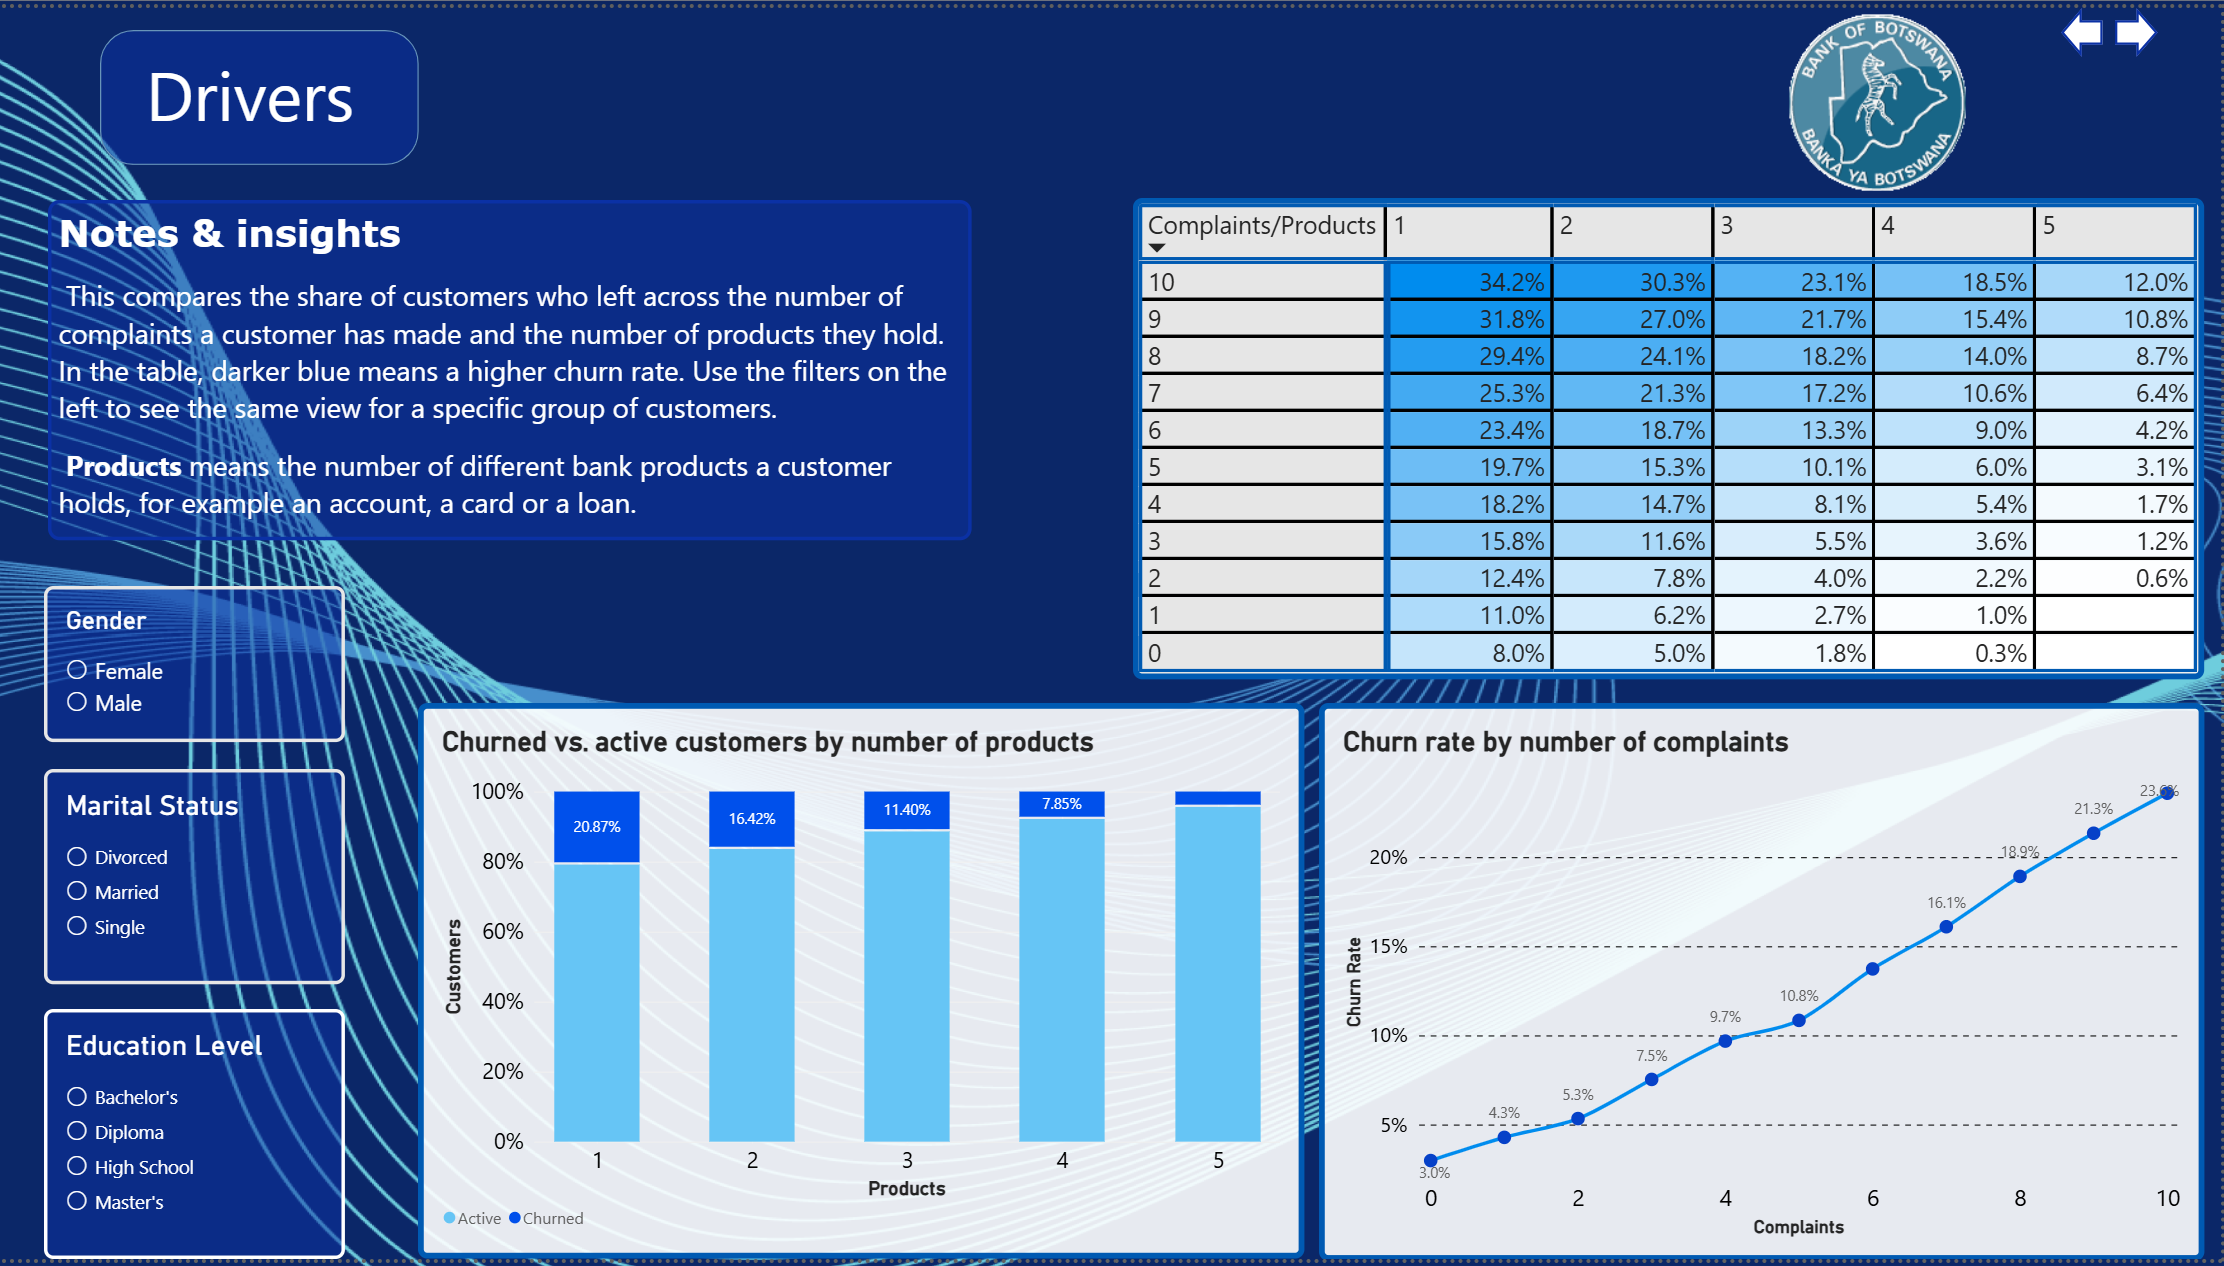

The dashboard page shown, as its layout file describes it:
{"tool":"powerbi","page":{"name":"Drivers","canvas":[1920,1080],"ordinal":3},"visuals":[{"type":"shape","box":[88,19.1,275.4,116.7],"z":0},{"type":"pivotTable","fields":{"Columns":["Bank Info.NumOfProducts"],"Rows":["Bank Info.NumComplaints"],"Values":["All Measures.Churn Rate"]},"box":[979.1,164.5,925.6,415],"z":1000},{"type":"textbox","box":[128.1,34.4,187.4,86.1],"z":2000},{"type":"lineChart","title":"Churn rate by number of complaints","fields":{"Category":["Bank Info.NumComplaints"],"Y":["All Measures.Churn Rate"]},"box":[1139.8,600.5,764.9,481.9],"z":3000},{"type":"hundredPercentStackedColumnChart","title":"Churned vs. active customers by number of products","fields":{"Category":["Bank Info.NumOfProducts"],"Series":["Bank Info.Churn Flag"],"Y":["CountNonNull(Bank Info.Churn Flag)"]},"box":[363.3,600.5,764.9,480],"z":4000},{"type":"listSlicer","fields":{"Values":["Customer Info.Gender"]},"box":[40,500,260,134],"z":5000},{"type":"listSlicer","fields":{"Values":["Customer Info.Marital Status"]},"box":[40,656,260,186],"z":6000},{"type":"listSlicer","fields":{"Values":["Customer Info.Education Level"]},"box":[40.2,863.9,260.1,216.1],"z":7000},{"type":"textbox","box":[44,166,798,294],"z":8000},{"type":"image","box":[1521.7,0,202.7,164.5],"z":9000},{"type":"shape","box":[1828.8,0,37,42.3],"z":10000},{"type":"shape","box":[1782,0,36,42.3],"z":11000}]}

Visuals, with their boxes in screenshot pixels (x1, y1, x2, y2), scaled from the page's 1920x1080 canvas onto the 2224x1266 screenshot:
shape: 102:22:421:159
pivotTable - Bank Info.NumOfProducts x Bank Info.NumComplaints: 1134:193:2206:679
textbox: 148:40:365:141
"Churn rate by number of complaints" lineChart: 1320:704:2206:1265
"Churned vs. active customers by number of products" hundredPercentStackedColumnChart: 421:704:1307:1265
listSlicer - Customer Info.Gender: 46:586:348:743
listSlicer - Customer Info.Marital Status: 46:769:348:987
listSlicer - Customer Info.Education Level: 47:1013:348:1265
textbox: 51:195:975:539
image: 1763:0:1997:193
shape: 2118:0:2161:50
shape: 2064:0:2106:50
